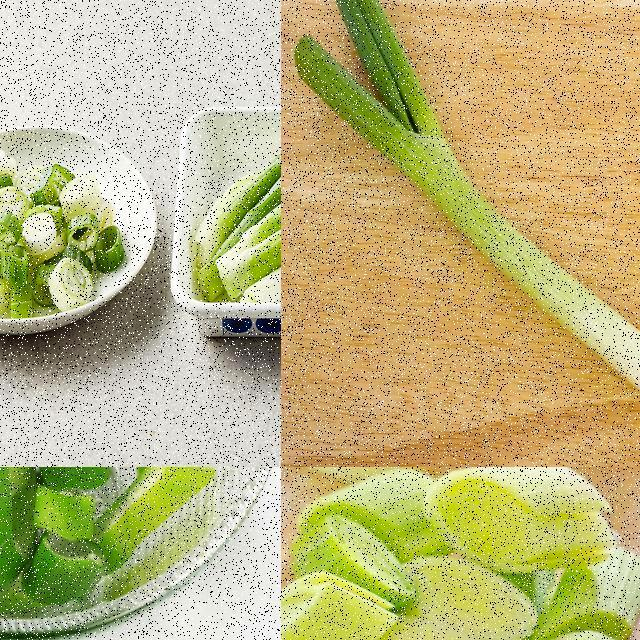green_onion: (287, 0, 640, 404)
